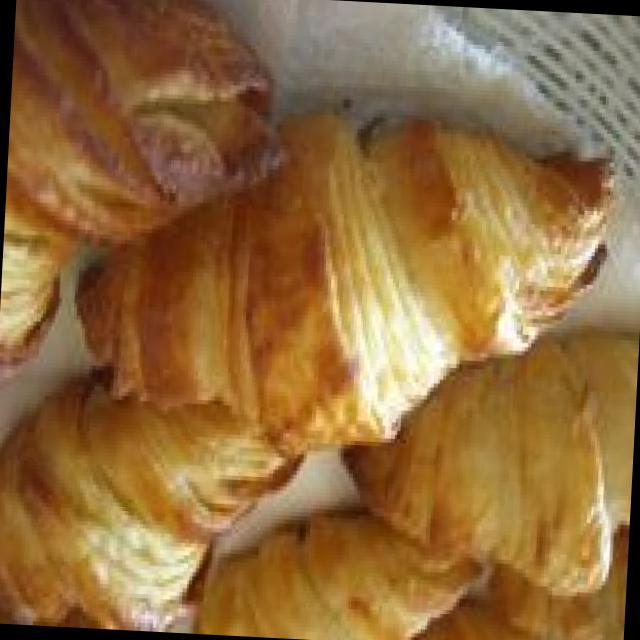Croissant: (72, 96, 630, 477)
